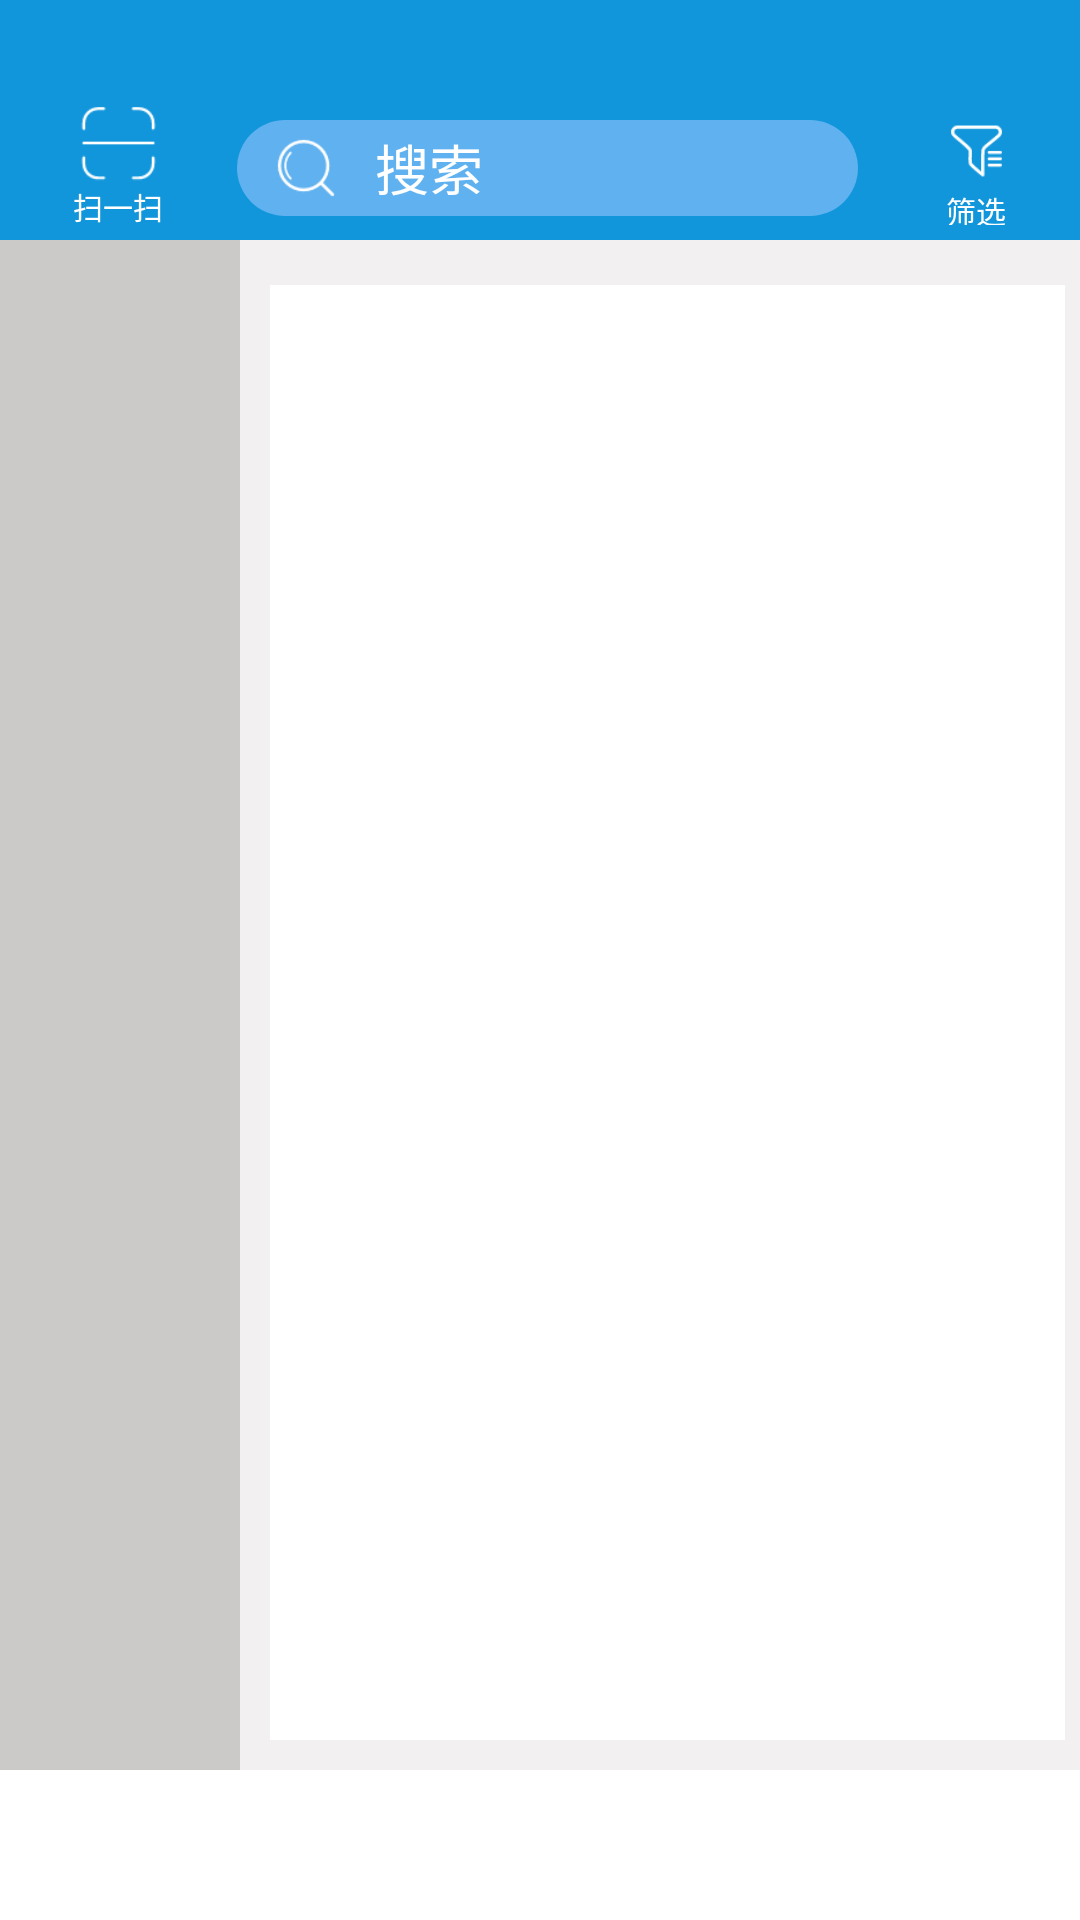

Where icons sit on this 1080x1920 app screen, as (x1,y1,x2,y2):
search: (278,140,334,196)
